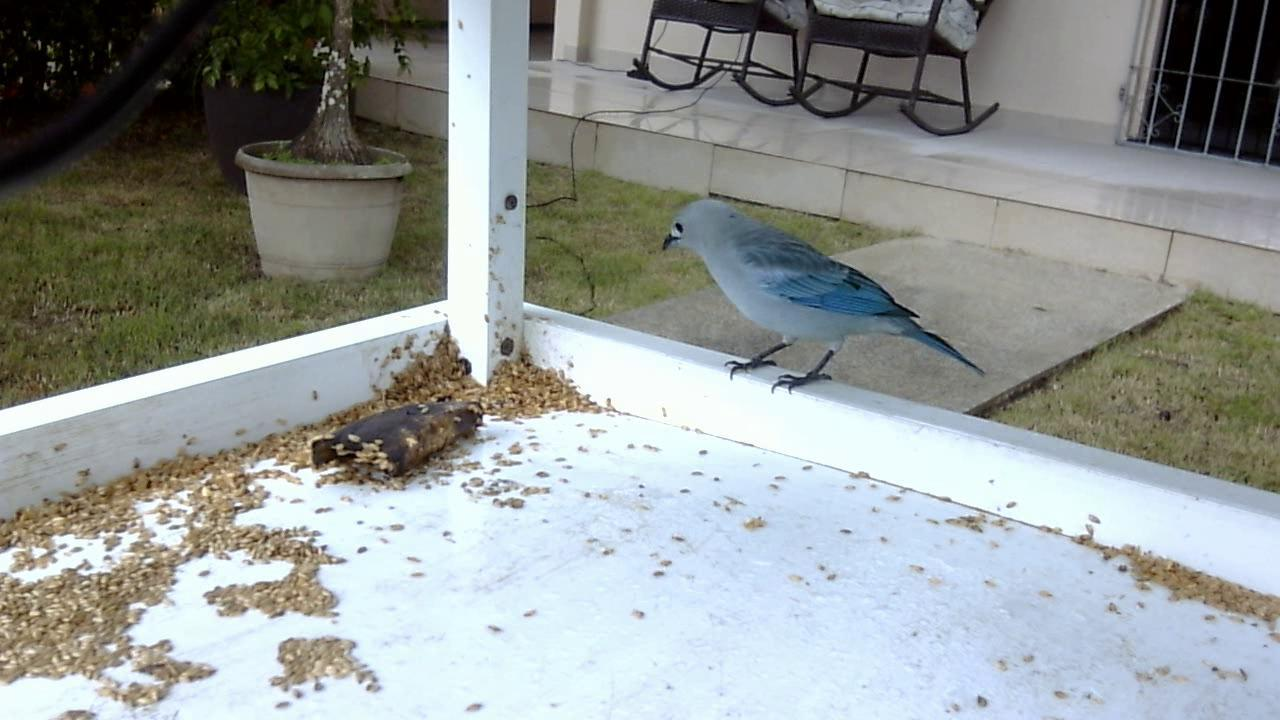sanhaco_da_amazonia: (655, 195, 991, 408)
